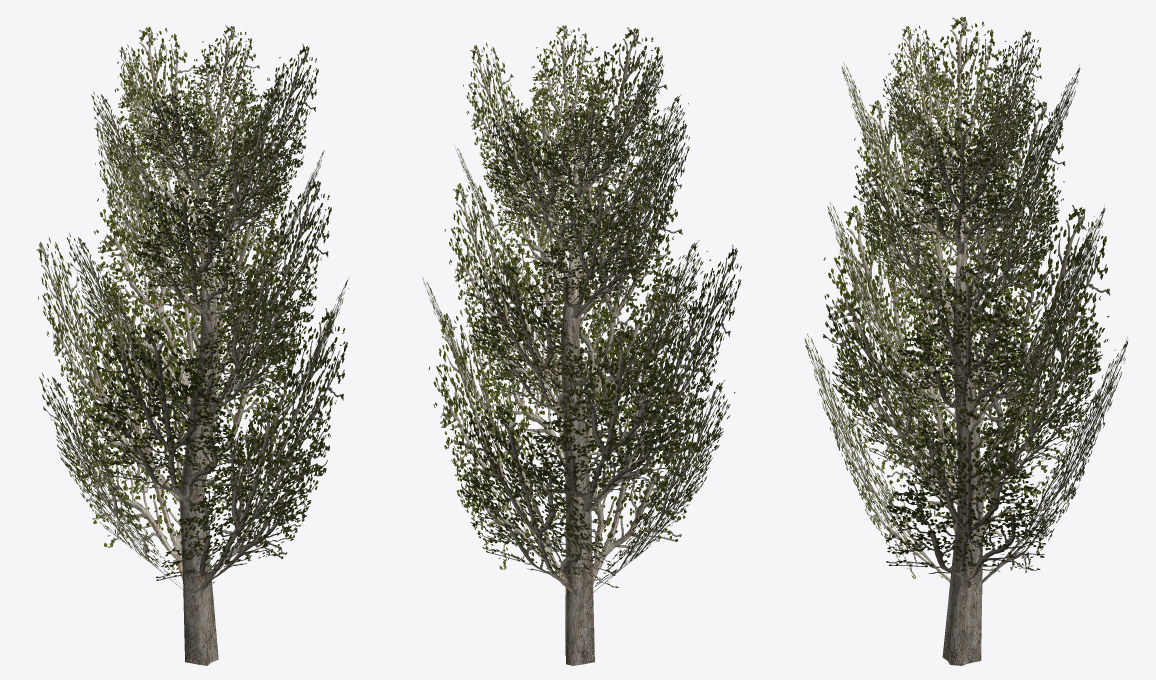
File: Sharp_Poplar09.gltf
The picture shows the model from 3 angles, left to right: view 1: azimuth 30°, elevation 25°; view 2: azimuth 150°, elevation 25°; view 3: azimuth 270°, elevation 25°; orthographic projection.
Visible parts, largest first — view 1: A, B, C, E, D, F, Trunk; view 2: A, B, C, E, D, F, Trunk; view 3: B, A, C, D, E, F, Trunk.
Boxes of the visible parts, box(x1,y1,x2,y2) form: A: box(39, 285, 347, 592); B: box(36, 196, 349, 510); C: box(67, 160, 331, 422); E: box(91, 27, 318, 257); D: box(94, 89, 324, 321); F: box(118, 25, 285, 197); Trunk: box(179, 180, 219, 665); A: box(428, 289, 735, 595); B: box(422, 200, 741, 511); C: box(444, 162, 707, 424); E: box(463, 27, 688, 256); D: box(454, 88, 689, 318); F: box(507, 25, 663, 198); Trunk: box(560, 180, 594, 665); B: box(822, 205, 1110, 505); A: box(804, 272, 1128, 587); C: box(827, 148, 1105, 421); D: box(853, 99, 1065, 321); E: box(841, 17, 1080, 254); F: box(882, 25, 1041, 192); Trunk: box(942, 214, 983, 665).
Bounding box in the file's own units: 5.44 × 10.38 × 5.44.
2 materials, 2 textured.
